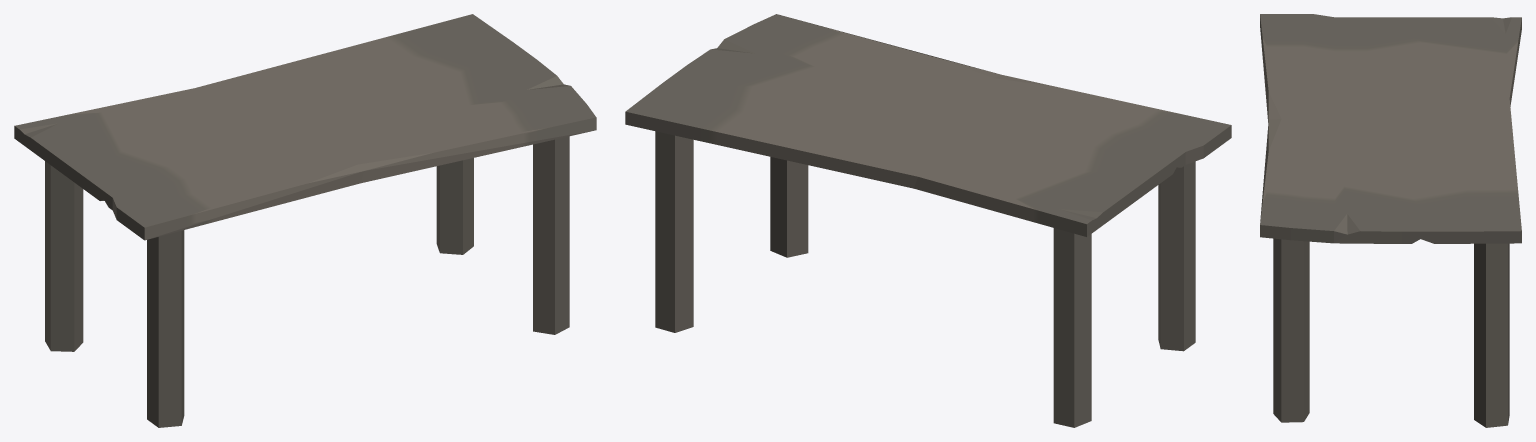
Rendered from SM_Prop_Table_02.fbx.
3 views of the same model, side by side, from view 1: azimuth 30°, elevation 25°; view 2: azimuth 150°, elevation 25°; view 3: azimuth 270°, elevation 25° (orthographic). The views are drawn at different scales.
Visible parts, largest first — view 1: SM_Prop_Table_02; view 2: SM_Prop_Table_02; view 3: SM_Prop_Table_02.
Boxes of the visible parts, x1,y1,x2,y2 form: SM_Prop_Table_02: [14, 14, 596, 427]; SM_Prop_Table_02: [625, 14, 1231, 427]; SM_Prop_Table_02: [1260, 14, 1521, 427].
Size of the model in its own units: 176 by 77.44 by 89.7.
